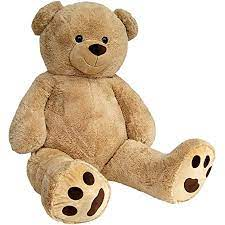teddy: (5, 3, 216, 223)
